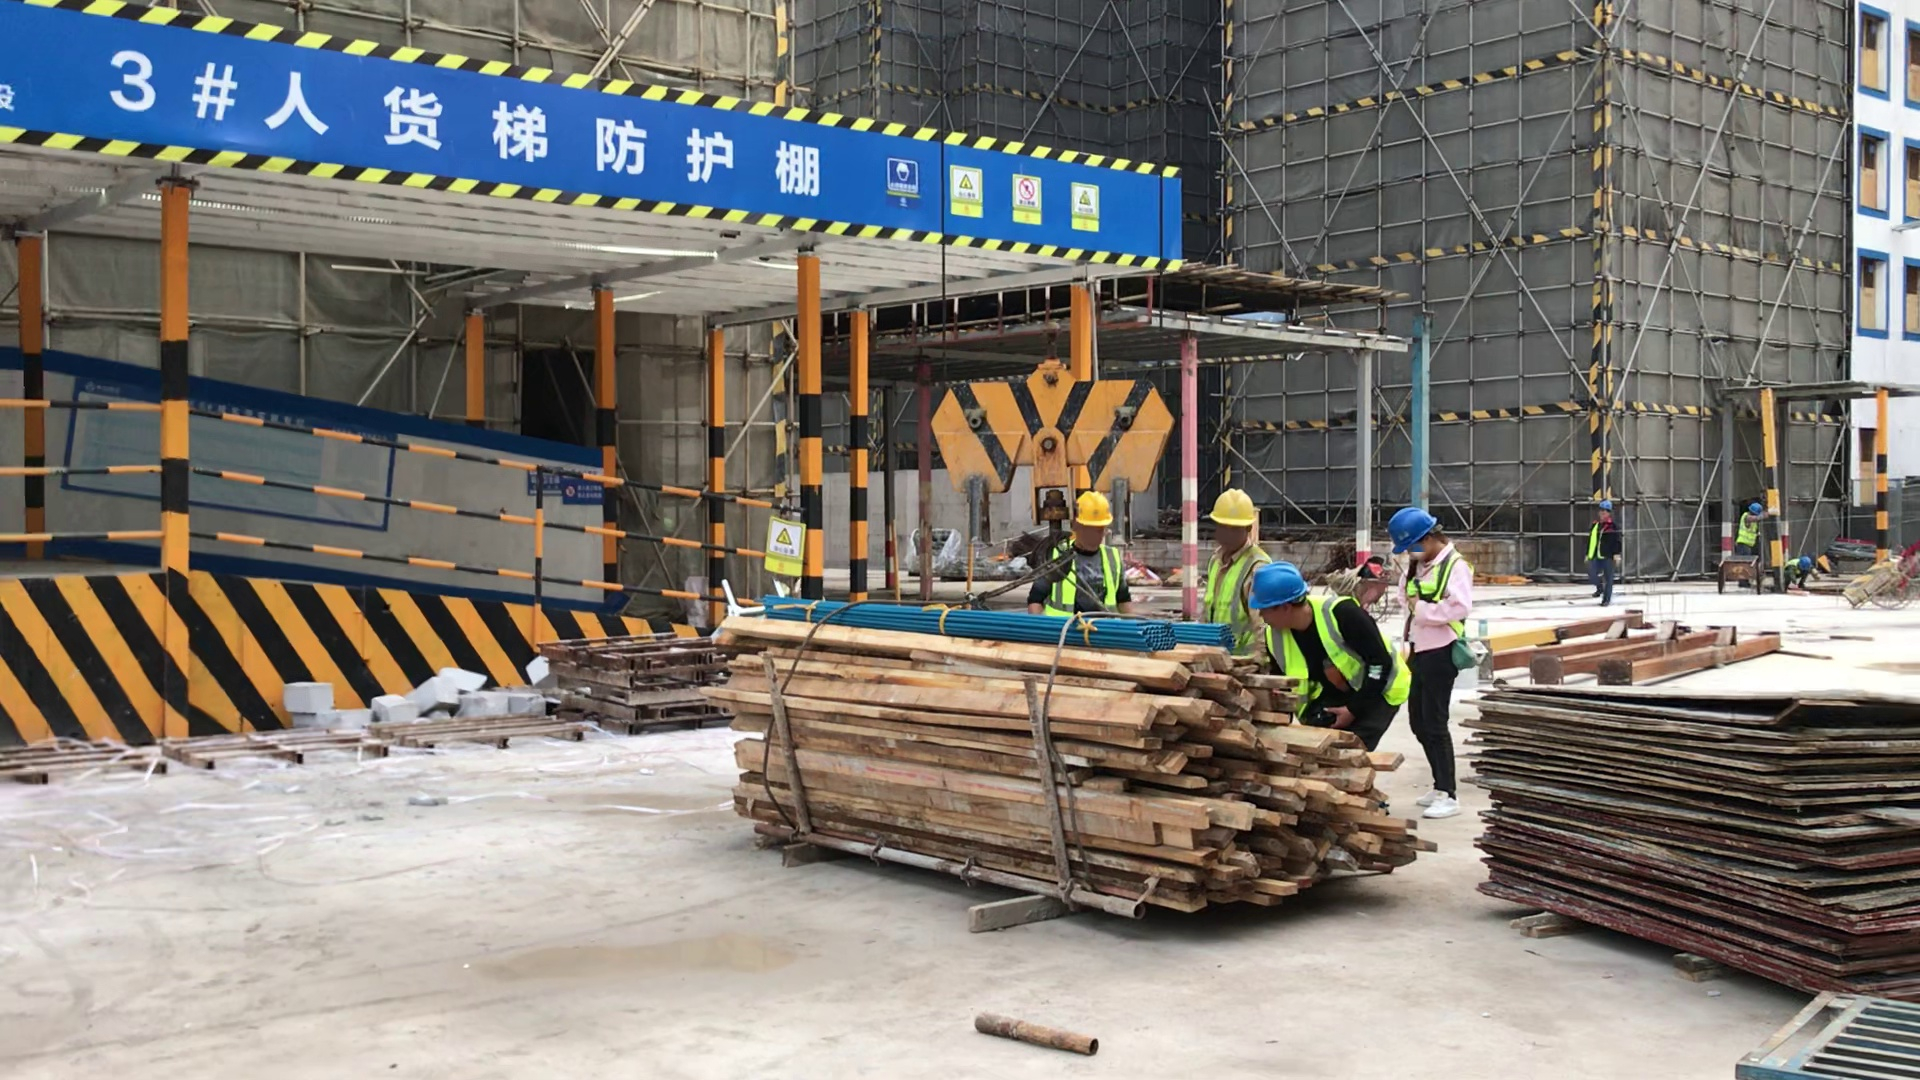board: (1474, 680, 1920, 1006)
handcart: (1834, 559, 1920, 612)
helmet: (1250, 564, 1309, 602), (1384, 507, 1432, 548), (1210, 488, 1255, 525), (1072, 491, 1116, 524), (1796, 555, 1811, 574), (1748, 502, 1762, 517), (1599, 500, 1611, 511)
hook: (922, 356, 1185, 505)
person: (1252, 564, 1411, 751), (1386, 503, 1479, 819), (1030, 489, 1135, 614), (1200, 491, 1275, 657), (1580, 499, 1624, 605), (1734, 499, 1763, 556), (1781, 554, 1822, 590)
vest: (1272, 600, 1381, 706), (1406, 557, 1480, 649), (1206, 542, 1266, 646), (1049, 534, 1121, 612), (1736, 512, 1758, 546)
wood: (699, 611, 1434, 932)
